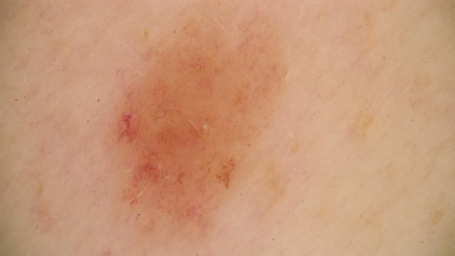melanoma: (113, 13, 285, 235)
